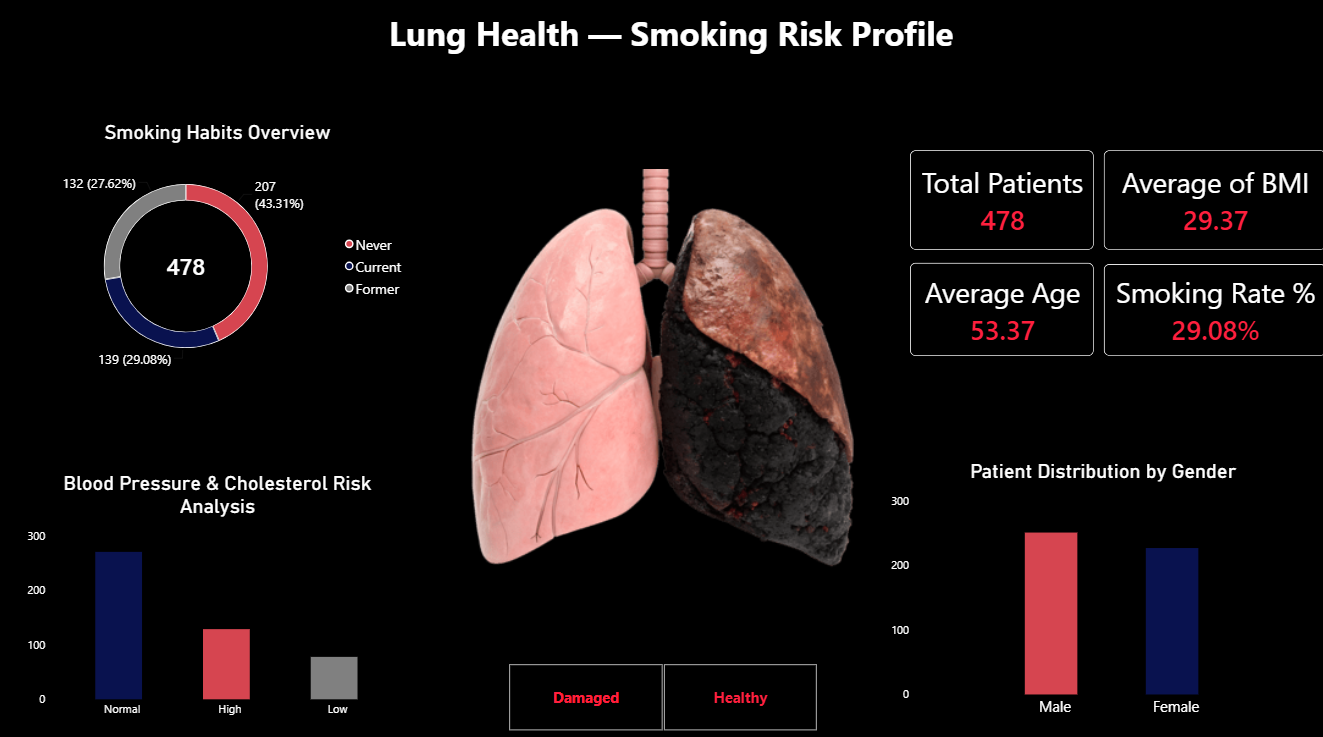

This screenshot's page, from the dashboard's own definition file:
{"tool":"powerbi","page":{"name":"liver","canvas":[1920,1080],"ordinal":5},"visuals":[{"type":"image","box":[628,258.8,689.5,633.4],"z":0},{"type":"donutChart","title":"Smoking Habits Overview","fields":{"Category":["HealthData.Smoking_Status"],"Y":["CountNonNull(HealthData.Patient_ID)"]},"box":[23.5,148.4,582.7,407.2],"z":1000},{"type":"clusteredColumnChart","title":"Patient Distribution by Gender","fields":{"Category":["HealthData.Gender"],"Y":["CountNonNull(HealthData.Patient_ID)"]},"box":[1274,653.3,646,421.7],"z":2000},{"type":"clusteredColumnChart","title":"Blood Pressure & Cholesterol Risk Analysis","fields":{"Category":["HealthData.BP_Risk"],"Y":["CountNonNull(HealthData.Patient_ID)"]},"box":[23.5,653.3,582.7,407.2],"z":3000},{"type":"textbox","box":[235.3,16.3,1684.8,83.2],"z":3001},{"type":"cardVisual","fields":{"Data":["HealthData.Total Patients"]},"box":[1286.7,220.8,295,150.2],"z":3002},{"type":"cardVisual","fields":{"Data":["HealthData.Average Age"]},"box":[1288.5,387.3,295,152],"z":3003},{"type":"cardVisual","fields":{"Data":["Avg(HealthData.BMI)"]},"box":[1597.9,220.8,322.1,150.2],"z":3004},{"type":"cardVisual","fields":{"Data":["HealthData.Smoking Rate %"]},"box":[1597.9,387.3,322.1,150.2],"z":3005},{"type":"slicer","fields":{"Values":["HealthData.Organ_Condition"]},"box":[734.7,962.7,447,97.7],"z":3006}]}

Visuals, with their boxes in screenshot pixels (x1, y1, x2, y2), scaled from the page's 1920x1080 canvas onto the 1323x737 screenshot:
image: l=433, t=177, r=908, b=609
"Smoking Habits Overview" donutChart: l=16, t=101, r=418, b=379
"Patient Distribution by Gender" clusteredColumnChart: l=878, t=446, r=1322, b=734
"Blood Pressure & Cholesterol Risk Analysis" clusteredColumnChart: l=16, t=446, r=418, b=724
textbox: l=162, t=11, r=1322, b=68
cardVisual - HealthData.Total Patients: l=887, t=151, r=1090, b=253
cardVisual - HealthData.Average Age: l=888, t=264, r=1091, b=368
cardVisual - Avg(HealthData.BMI): l=1101, t=151, r=1322, b=253
cardVisual - HealthData.Smoking Rate %: l=1101, t=264, r=1322, b=367
slicer - HealthData.Organ_Condition: l=506, t=657, r=814, b=724
